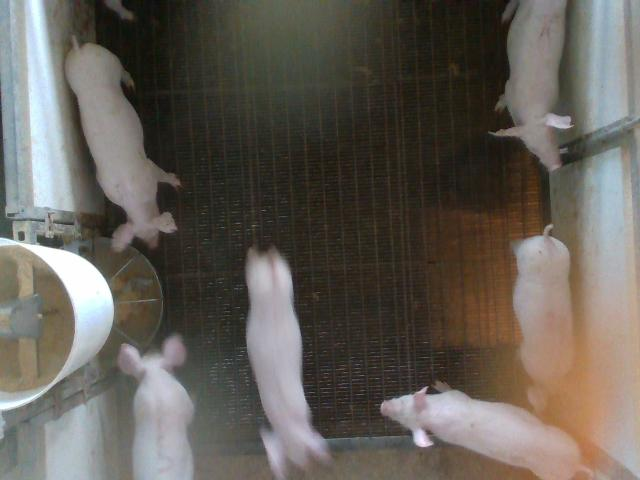pig-3: (118, 337, 194, 478)
pig-4: (514, 225, 575, 413)
